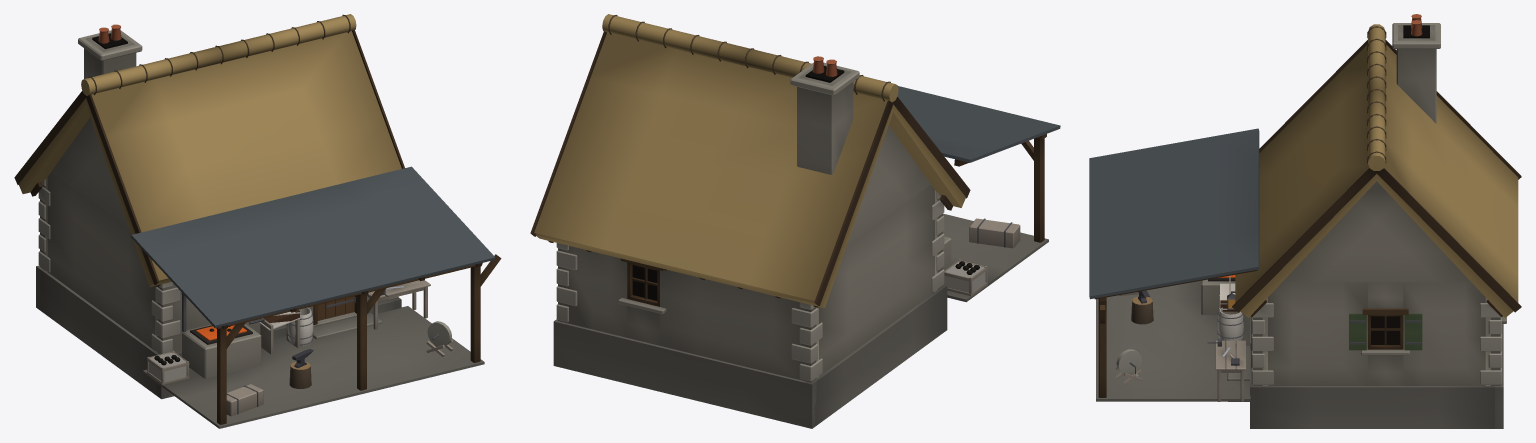
The model's file is smithy.glb.
3 views of the same model, side by side, from view 1: azimuth 30°, elevation 25°; view 2: azimuth 150°, elevation 25°; view 3: azimuth 270°, elevation 25° (orthographic). The views are drawn at different scales.
Parts seen in each view (by area): view 1: ext, door0; view 2: ext; view 3: ext.
Part boxes in pixels (x1,y1,x2,y2): ext: (14,14,501,428); door0: (317,296,355,320); ext: (530,14,1060,428); ext: (1089,14,1521,428).
Bounding box in the file's own units: 7.7 × 7.65 × 9.78.
